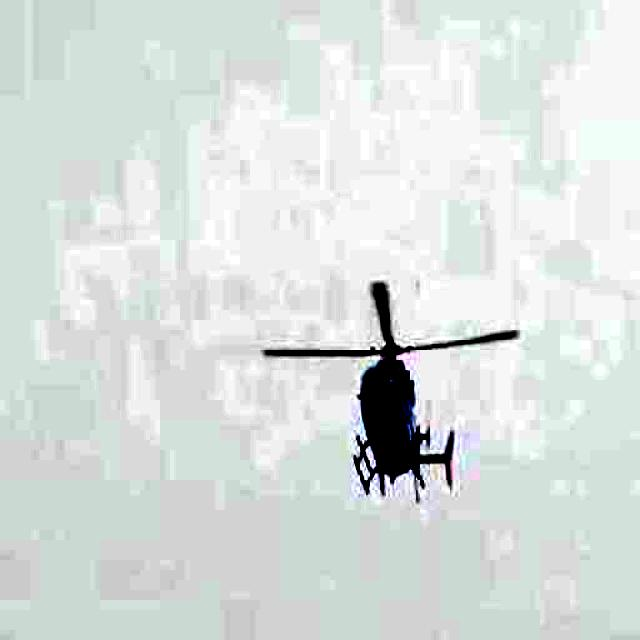drone: (266, 260, 520, 506)
